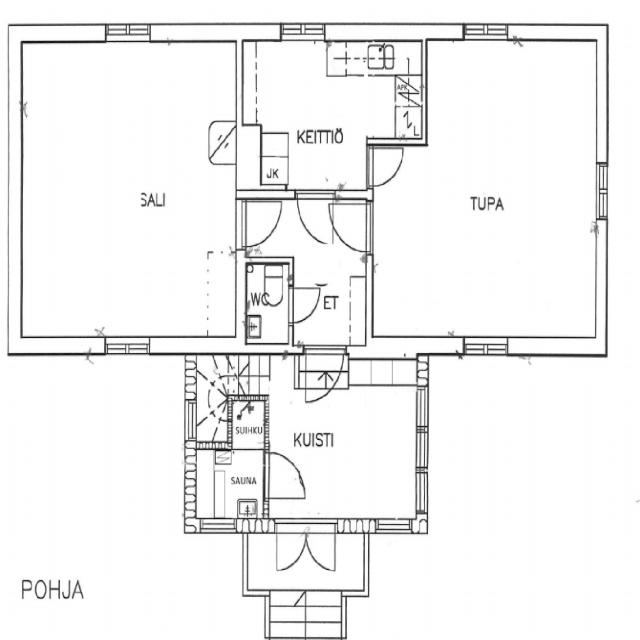door: (306, 344, 344, 406), (329, 204, 373, 251), (297, 190, 333, 244), (237, 202, 280, 246), (263, 452, 304, 498), (277, 517, 307, 571), (307, 517, 336, 571), (366, 147, 404, 186), (288, 288, 322, 322)
